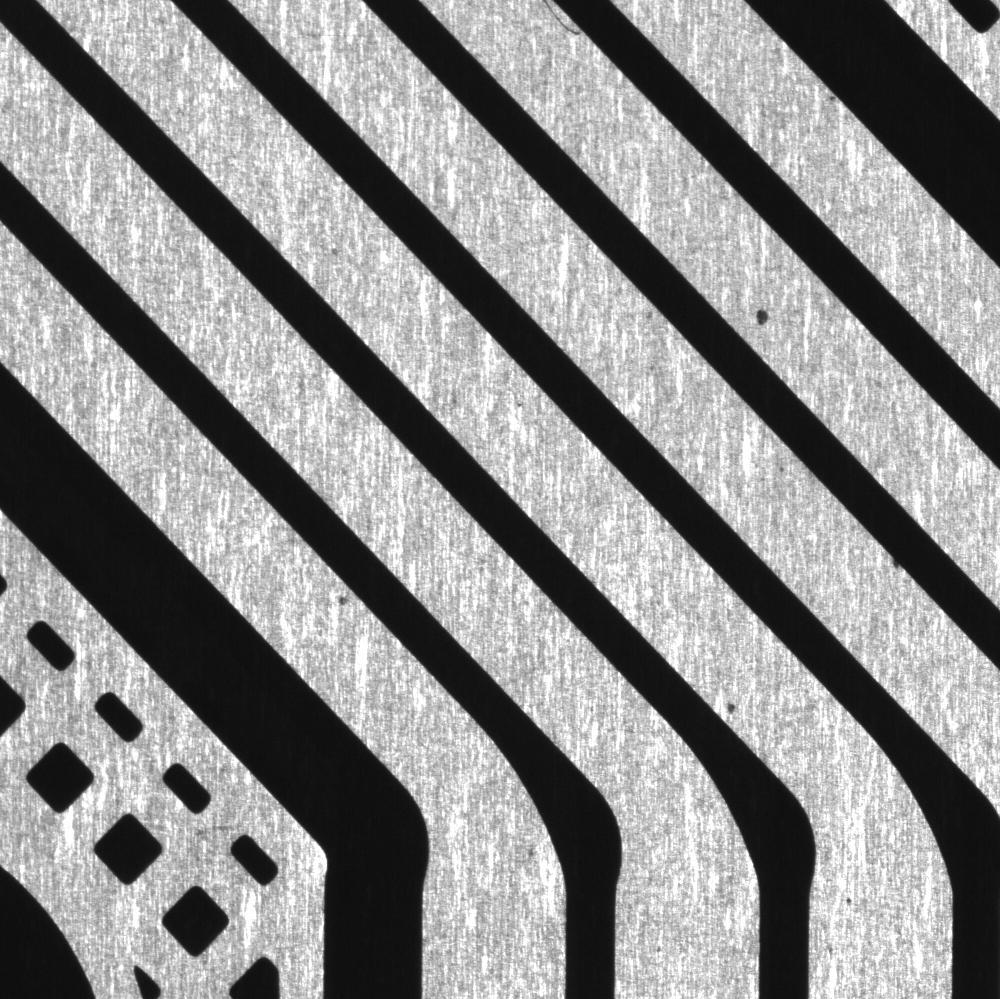Etching: (748, 297, 776, 336), (876, 547, 909, 580), (716, 683, 742, 720)
Pinhole: (513, 840, 543, 870), (330, 589, 352, 618), (842, 889, 856, 913)
Scar: (547, 1, 583, 52)
